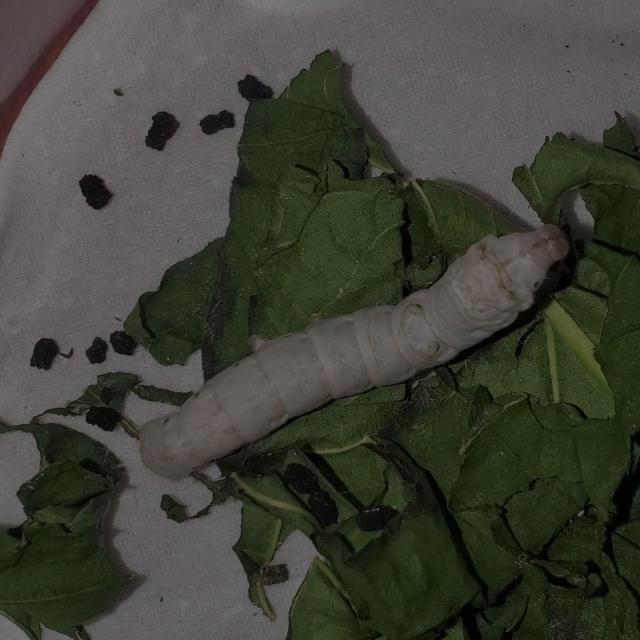Healthy: (131, 214, 575, 493)
